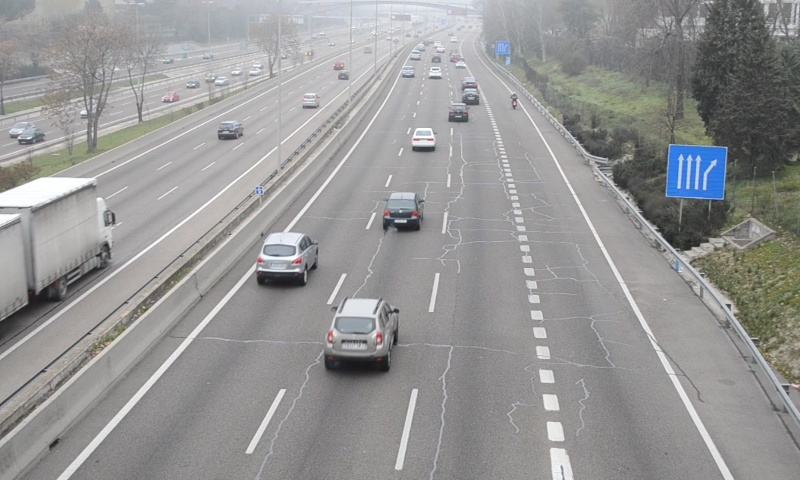car: (324, 298, 398, 360), (258, 232, 318, 274), (382, 192, 422, 228), (412, 126, 436, 149), (448, 102, 468, 122), (462, 88, 481, 104)
motorcycle: (510, 92, 519, 110)
